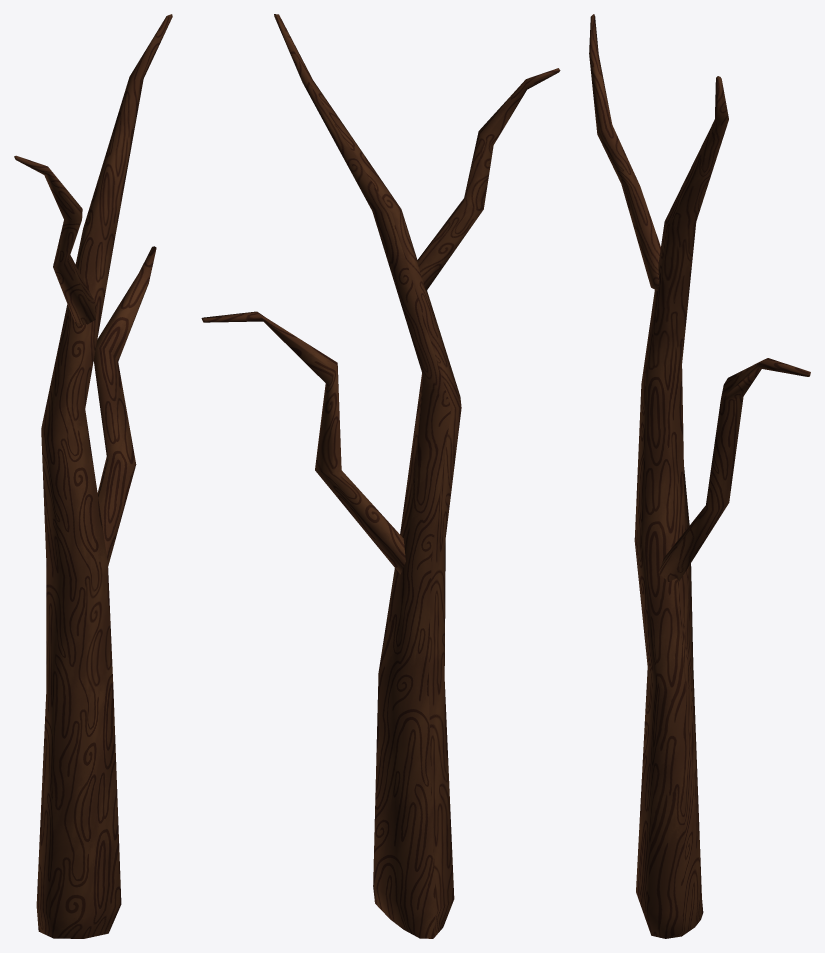
File: Tree_Dead1.fbx
The picture shows the model from 3 angles, left to right: view 1: azimuth 30°, elevation 25°; view 2: azimuth 150°, elevation 25°; view 3: azimuth 270°, elevation 25°; orthographic projection. The views are drawn at different scales.
Parts seen in each view (by area): view 1: Cube.094; view 2: Cube.094; view 3: Cube.094.
Part boxes in pixels (x1,y1,x2,y2): Cube.094: (14,14,172,938); Cube.094: (201,14,560,938); Cube.094: (589,14,810,938).
Bounding box in the file's own units: 1767 × 6033 × 1333.
